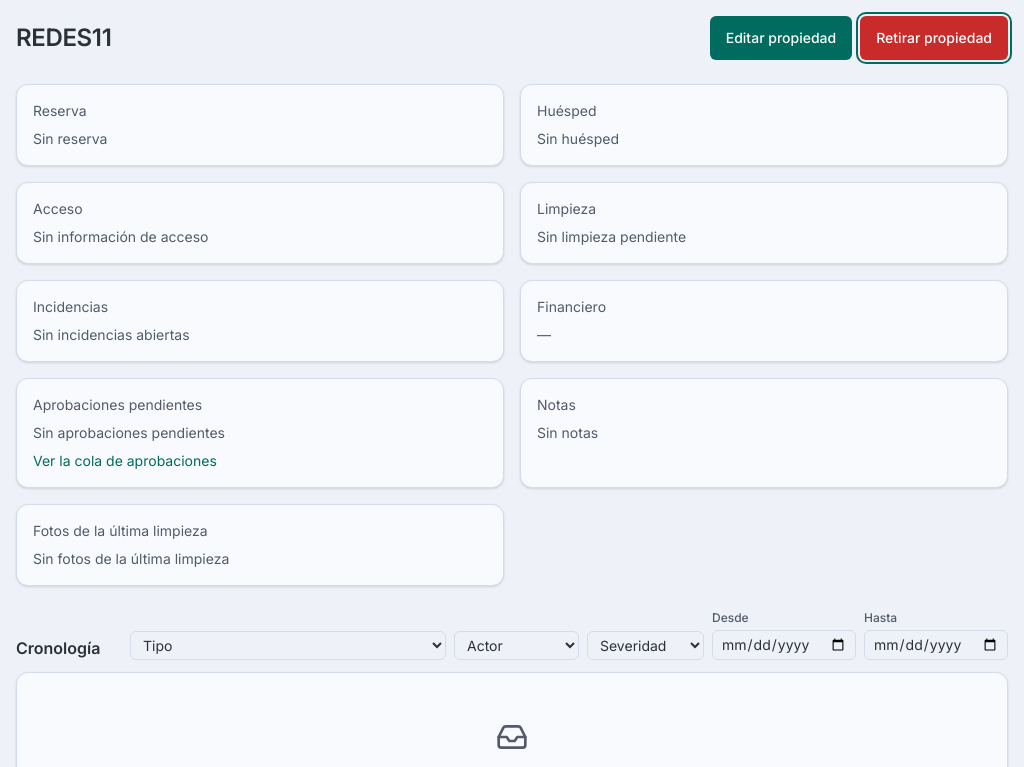
Test: PropertyDetailView — the overlays' keyboard contract (R4.3, task 6.2) › closes the retire AlertDialog on Escape, makes no request, and returns focus
The width and height of the screenshot is (1024, 767).
Click the button "Retirar propiedad" at coordinates (934, 38), box [860,16,1008,60]
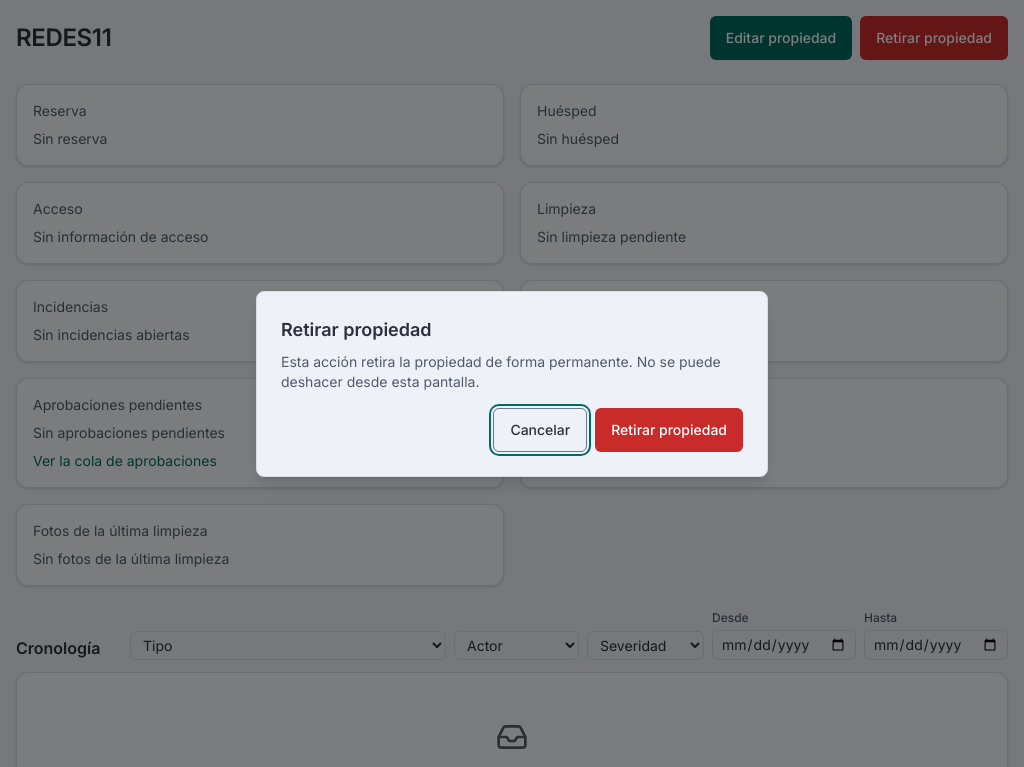
Press Escape in the dialog, box [256,291,768,477]
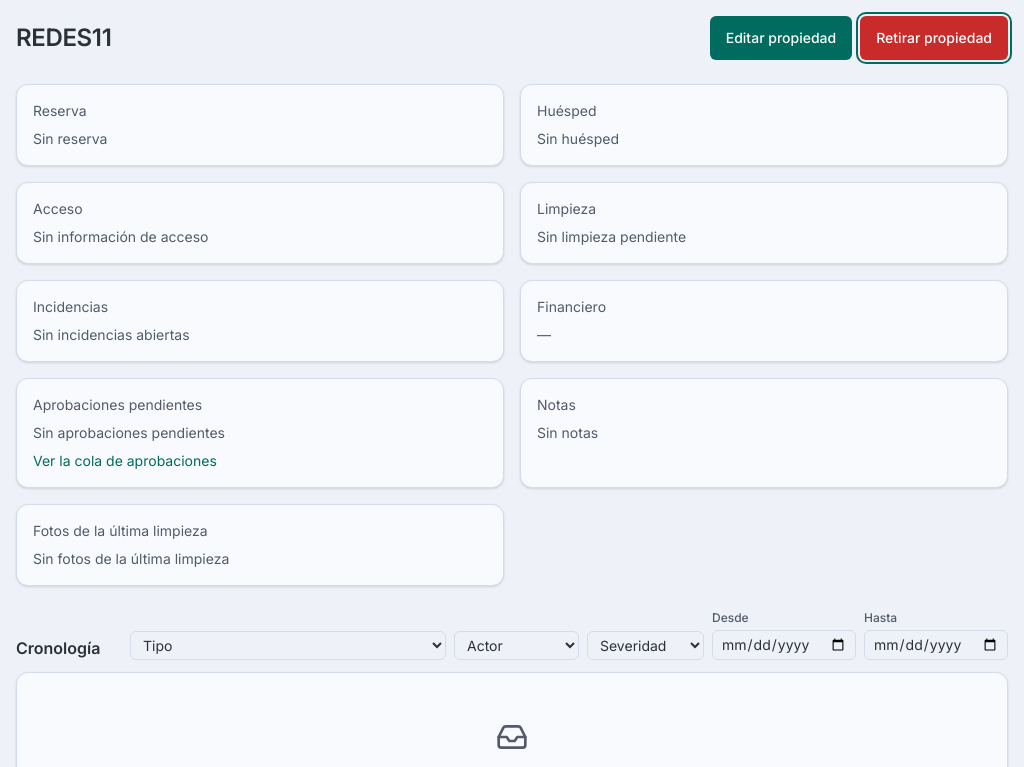
Expected: the dialog is gone
